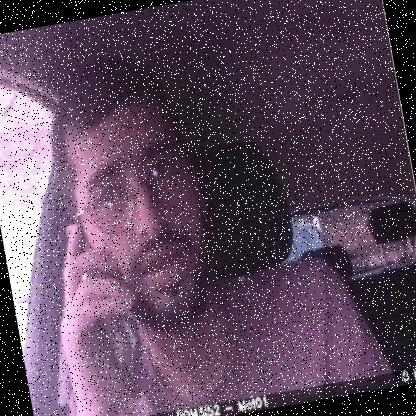phone: (61, 227, 150, 398)
